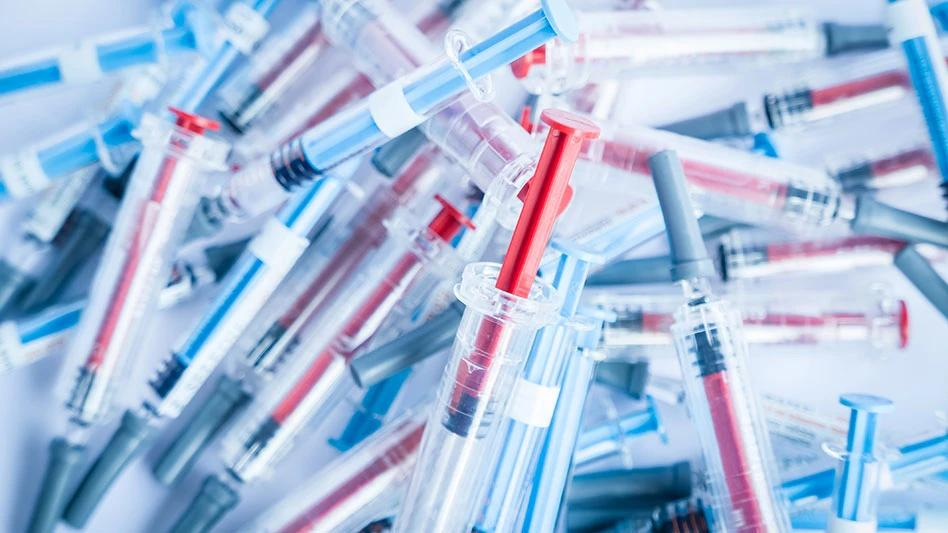Syringe: (173, 196, 469, 530), (156, 151, 446, 482), (67, 177, 344, 523), (395, 110, 598, 532), (30, 110, 228, 531), (231, 0, 577, 208), (475, 218, 655, 531), (649, 152, 788, 532), (583, 128, 947, 246), (512, 6, 887, 93), (719, 195, 947, 316), (235, 41, 431, 160), (0, 142, 138, 311), (241, 409, 426, 532), (660, 50, 912, 139), (220, 10, 372, 156), (518, 308, 614, 532), (420, 88, 537, 257), (0, 2, 210, 96), (0, 166, 110, 314), (234, 50, 374, 161), (744, 49, 912, 130), (218, 7, 327, 131), (157, 0, 277, 112), (0, 106, 140, 198), (167, 0, 279, 110), (887, 0, 947, 189), (732, 291, 908, 351), (718, 229, 905, 280), (827, 393, 892, 532), (566, 461, 693, 532), (329, 370, 410, 451), (573, 397, 667, 466), (555, 202, 663, 261), (0, 301, 85, 373), (0, 301, 84, 373), (829, 143, 936, 192), (883, 435, 947, 488)
